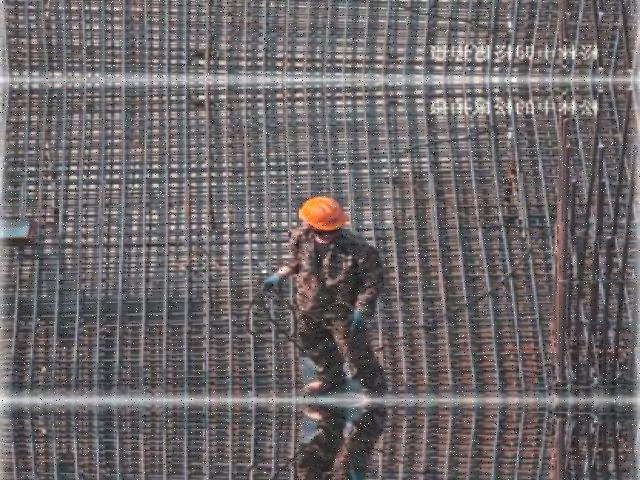Helmet: (294, 190, 355, 234)
